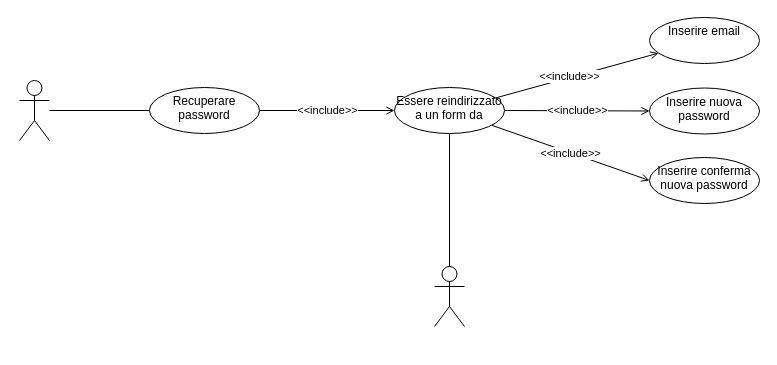
Image size: 777x365. Some labels were removed from this diagram. The centre of each missing label's shape, as x and y in pixels:
Sistema: (x=449, y=296)
Utente: (x=34, y=110)
